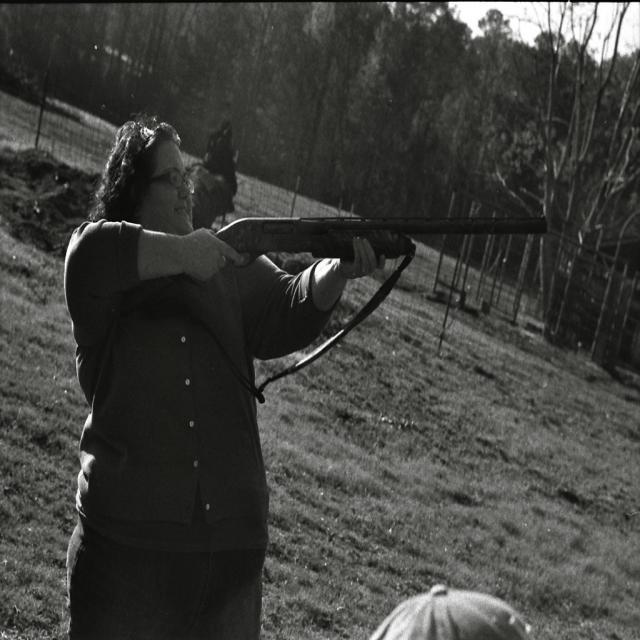weapon: (204, 204, 501, 355), (215, 219, 547, 265)
